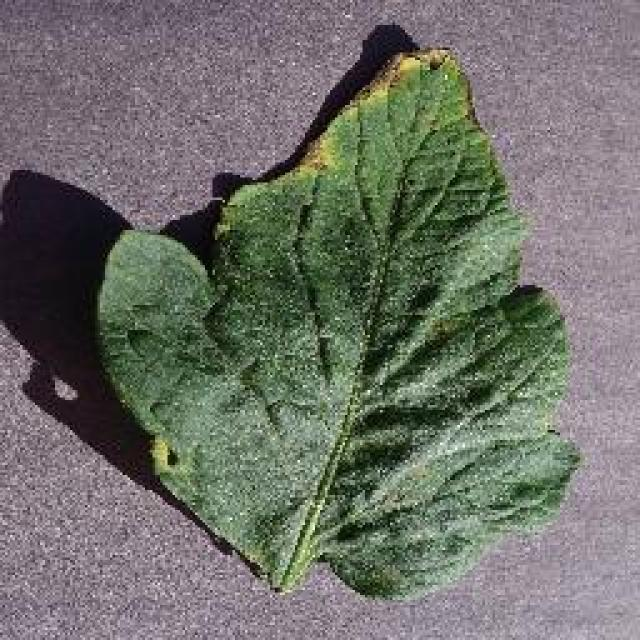Tomato___Target_Spot: (98, 50, 578, 595)
